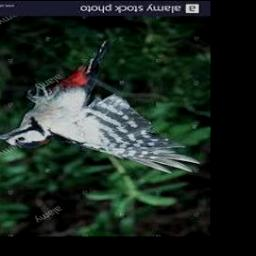Woodpecker: (0, 41, 199, 175)
